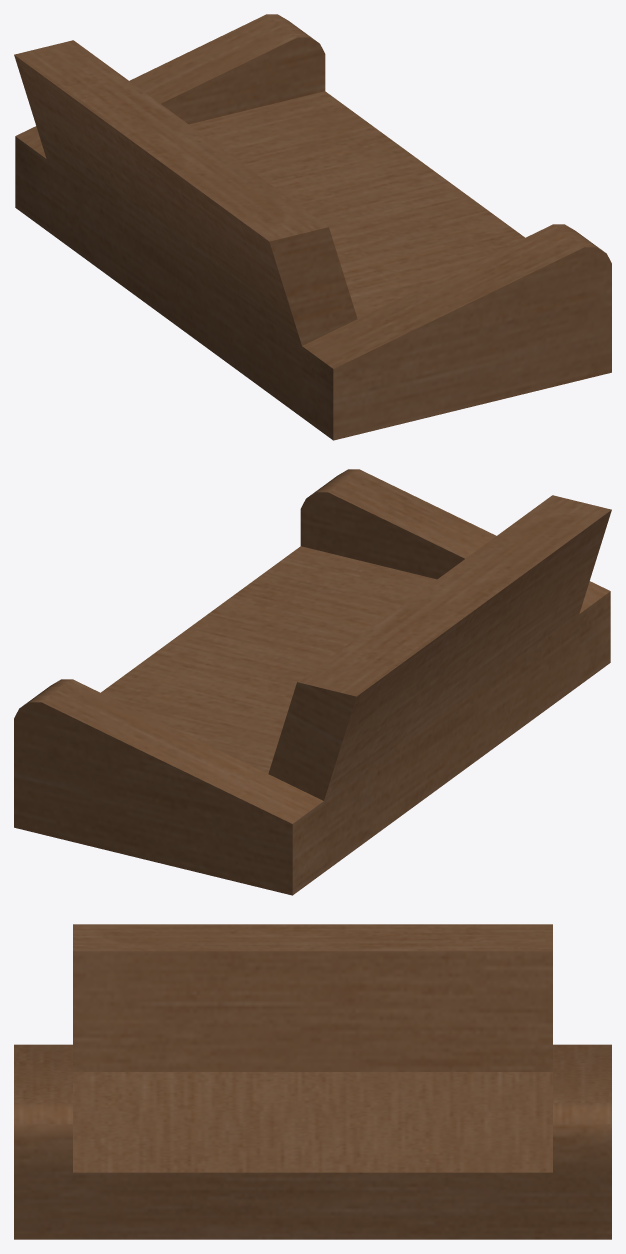
File: sofa.FBX
3 views of the same model, one above another, from view 1: azimuth 30°, elevation 25°; view 2: azimuth 150°, elevation 25°; view 3: azimuth 270°, elevation 25° (orthographic). The views are drawn at different scales.
Parts seen in each view (by area): view 1: sofa; view 2: sofa; view 3: sofa.
Boxes of the visible parts, box(x1,y1,x2,y2) form: sofa: box(14, 14, 611, 440); sofa: box(14, 469, 611, 895); sofa: box(14, 924, 611, 1239).
Size of the model in its own units: 70.35 by 39.74 by 125.
